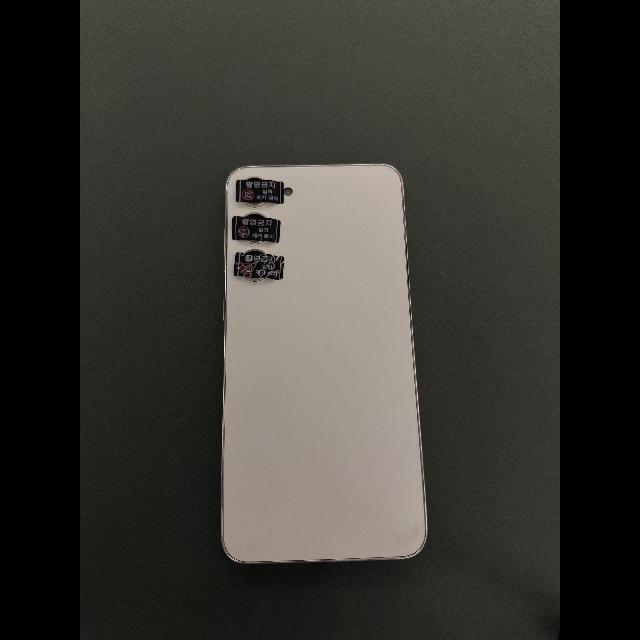lens: (244, 202, 267, 207), (245, 213, 267, 218), (245, 250, 266, 254)
phone: (221, 164, 427, 563)
sticker: (233, 252, 285, 281), (231, 217, 281, 243), (236, 180, 284, 204)
